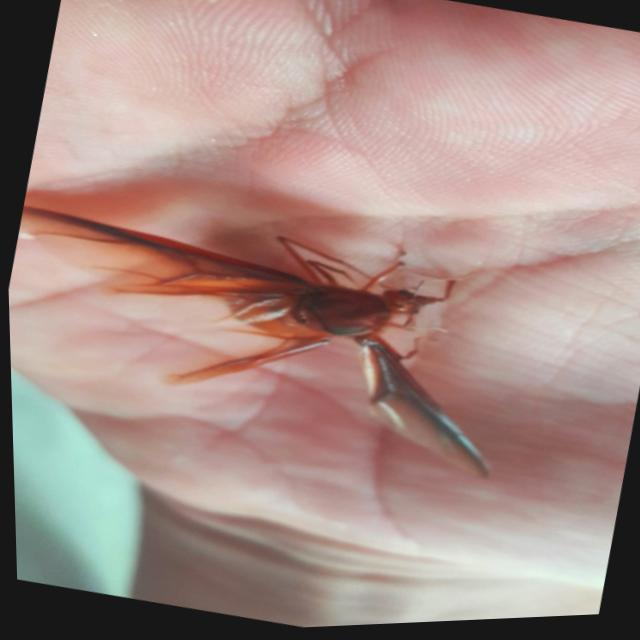Alive-Male-Alate: (4, 164, 534, 502)
